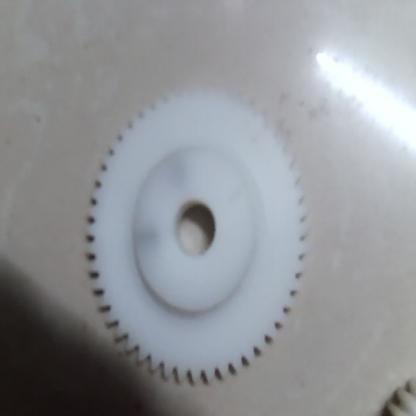FOD: (80, 84, 309, 388)
